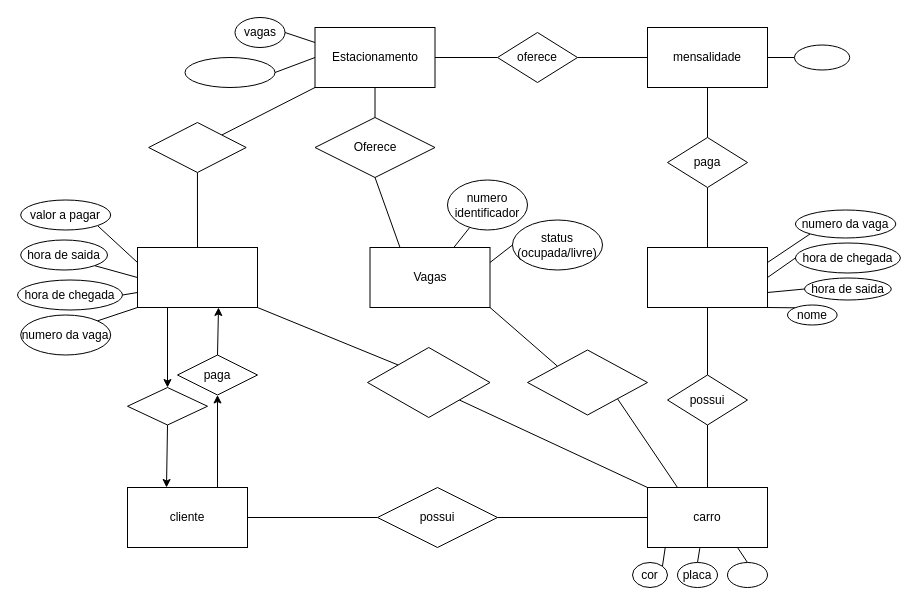
This 918x606 diagram has some shape labels left out. Here are the shapes that lost their labels. From the top down, the centre of each, then its label:
At [229,72]: "manobristas".
At [822,57]: "valor".
At [197,147]: "emite".
At [197,277]: "comprovante".
At [707,277]: "mensalista".
At [428,382]: "contem informações".
At [587,382]: "ocupa".
At [167,405]: "recebe".
At [747,575]: "marca".
